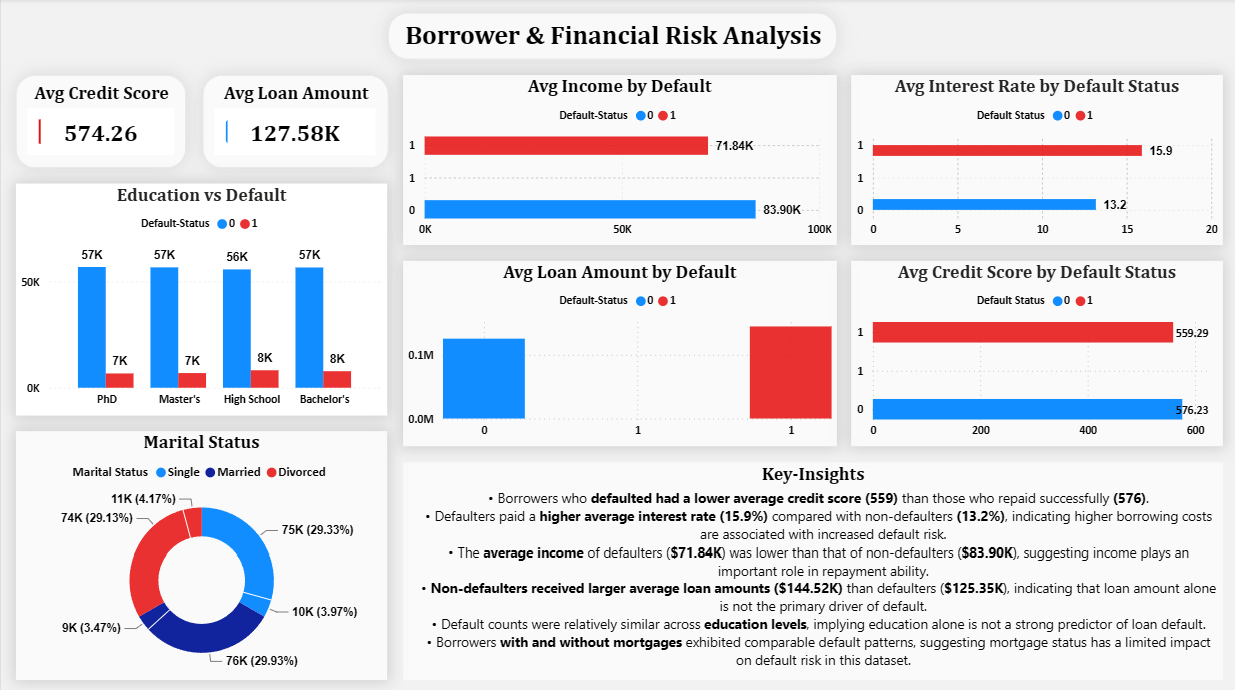

Layout of this report page (visuals, bound fields, positions):
{"tool":"powerbi","page":{"name":"Borrower & Financial Risk Analysis","canvas":[1280,720],"ordinal":1},"visuals":[{"type":"barChart","title":"Avg Credit Score by Default Status","fields":{"Category":["avg_credit_score_by_default.default_status"],"Y":["Avg(avg_credit_score_by_default.avg_credit_score)"],"Series":["avg_credit_score_by_default.default_status"]},"box":[880,272,384,192],"z":0},{"type":"clusteredBarChart","title":"Avg Interest Rate by Default Status","fields":{"Category":["avg_interest_rate_by_default.default_status"],"Y":["Sum(avg_interest_rate_by_default.avg_int_rate)"],"Series":["avg_interest_rate_by_default.default_status"]},"box":[880,80,384,176],"z":1000},{"type":"columnChart","title":"Avg Loan Amount by Default","fields":{"Category":["avg_loan_amount_by_default.default"],"Series":["avg_loan_amount_by_default.default"],"Y":["Sum(avg_loan_amount_by_default.avg_loan_amount)"]},"box":[416,272,448,192],"z":2000},{"type":"barChart","title":"Avg Income by Default","fields":{"Category":["avg_income_by_default.default"],"Y":["Sum(avg_income_by_default.avg_income)"],"Series":["avg_income_by_default.default"]},"box":[416,80,448,176],"z":3000},{"type":"donutChart","title":"Marital Status","fields":{"Category":["marital_status_vs_default.marital_status"],"Y":["Sum(marital_status_vs_default.default_count)"],"Series":["marital_status_vs_default.default"]},"box":[16,448,384,256],"z":4000},{"type":"lineClusteredColumnComboChart","title":"Education vs Default","fields":{"Category":["education_vs_default.education"],"Y":["Sum(education_vs_default.default_rate_count)"],"Series":["education_vs_default.default"]},"box":[16,192,384,240],"z":5000},{"type":"cardVisual","title":"Avg Loan Amount","fields":{"Data":["Sum(avg_loan_amount.avg_loan_amt)"]},"box":[208,80,192,96],"z":6000},{"type":"cardVisual","title":"Avg Credit Score","fields":{"Data":["Sum(avg_credit_score.avg_cred_score)"]},"box":[16,80,176,96],"z":7000},{"type":"textbox","title":"Borrower & Financial Risk Analysis","box":[400,16,464,48],"z":8000},{"type":"textbox","title":"Key-Insights","box":[416,480,848,224],"z":9000}]}

Visuals, with their boxes in screenshot pixels (x1, y1, x2, y2), scaled from the page's 1280x720 canvas onto the 1235x690 screenshot:
"Avg Credit Score by Default Status" barChart: region(849, 261, 1220, 445)
"Avg Interest Rate by Default Status" clusteredBarChart: region(849, 77, 1220, 245)
"Avg Loan Amount by Default" columnChart: region(401, 261, 834, 445)
"Avg Income by Default" barChart: region(401, 77, 834, 245)
"Marital Status" donutChart: region(15, 429, 386, 675)
"Education vs Default" lineClusteredColumnComboChart: region(15, 184, 386, 414)
"Avg Loan Amount" cardVisual: region(201, 77, 386, 169)
"Avg Credit Score" cardVisual: region(15, 77, 185, 169)
"Borrower & Financial Risk Analysis" textbox: region(386, 15, 834, 61)
"Key-Insights" textbox: region(401, 460, 1220, 675)
